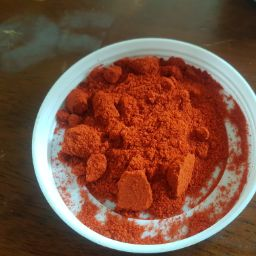Red chilli: (73, 60, 237, 241), (90, 78, 210, 203)
